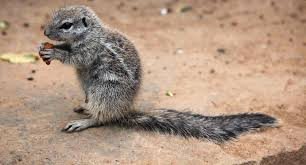squirrel: (39, 7, 280, 135)
